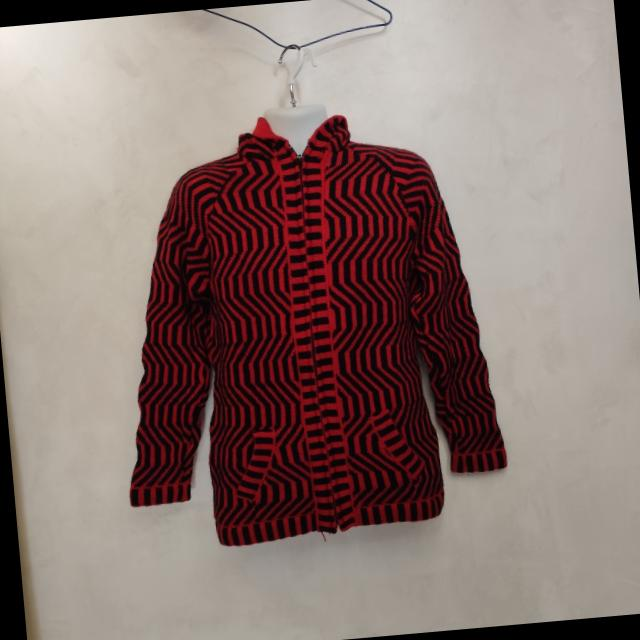Chompa: (96, 95, 514, 556)
